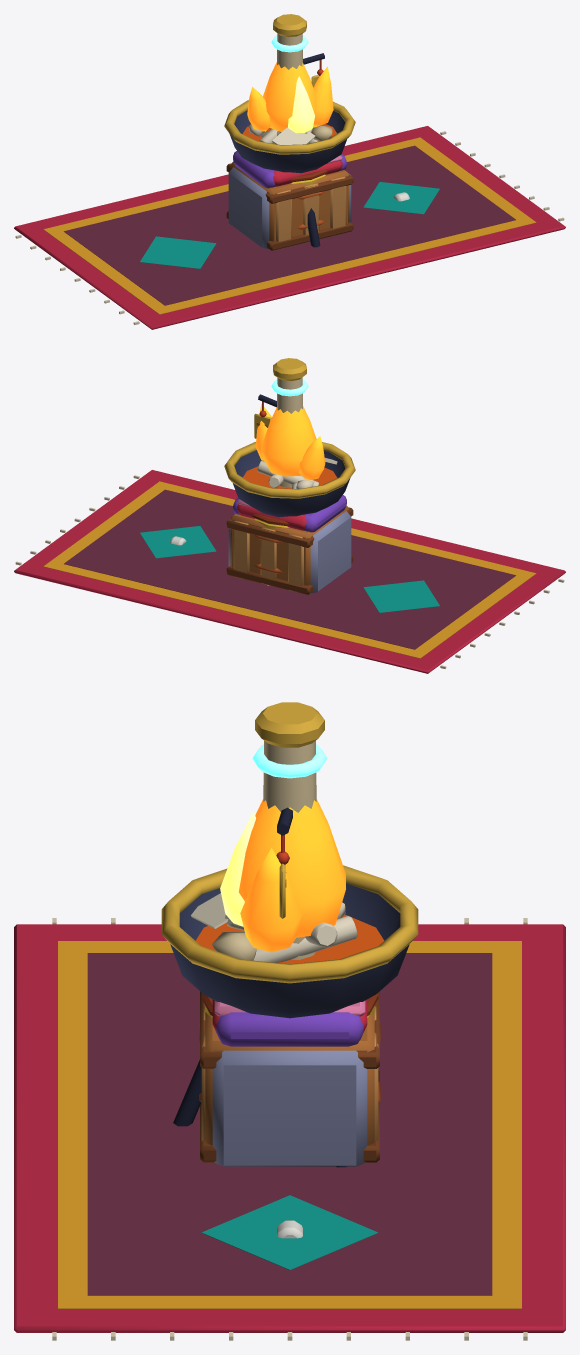
File: camp-Ud6zEo5V.glb
3 views of the same model, one above another, from view 1: azimuth 30°, elevation 25°; view 2: azimuth 150°, elevation 25°; view 3: azimuth 270°, elevation 25° (orthographic). The views are drawn at different scales.
Parts seen in each view (by area): view 1: rug, brazierBowl, seatCrate, flame, seatBlock, anchorPostBody, flameInner, seatDrum; view 2: rug, seatCrate, brazierBowl, flame, seatBlock, anchorPostBody, seatDrum; view 3: rug, brazierBowl, seatBlock, flame, anchorPostBody, seatCrate, flameInner.
Boxes of the visible parts, x1=… form: rug: x1=14, y1=126, x2=565, y2=329; brazierBowl: x1=224, y1=100, x2=355, y2=247; seatCrate: x1=226, y1=160, x2=353, y2=250; flame: x1=247, y1=62, x2=333, y2=131; seatBlock: x1=228, y1=151, x2=351, y2=248; anchorPostBody: x1=271, y1=14, x2=324, y2=132; flameInner: x1=288, y1=76, x2=314, y2=133; seatDrum: x1=290, y1=170, x2=327, y2=229; rug: x1=14, y1=470, x2=565, y2=673; seatCrate: x1=226, y1=504, x2=353, y2=594; brazierBowl: x1=224, y1=442, x2=355, y2=517; flame: x1=255, y1=403, x2=325, y2=480; seatBlock: x1=228, y1=495, x2=351, y2=592; anchorPostBody: x1=258, y1=358, x2=308, y2=487; seatDrum: x1=252, y1=514, x2=289, y2=573; rug: x1=14, y1=918, x2=565, y2=1340; brazierBowl: x1=161, y1=865, x2=418, y2=1167; seatBlock: x1=212, y1=1001, x2=367, y2=1166; flame: x1=239, y1=799, x2=345, y2=952; anchorPostBody: x1=252, y1=702, x2=327, y2=959; seatCrate: x1=200, y1=991, x2=379, y2=1162; flameInner: x1=220, y1=812, x2=255, y2=926.
Bounding box in the file's own units: 2.69 × 1.3 × 1.5.
